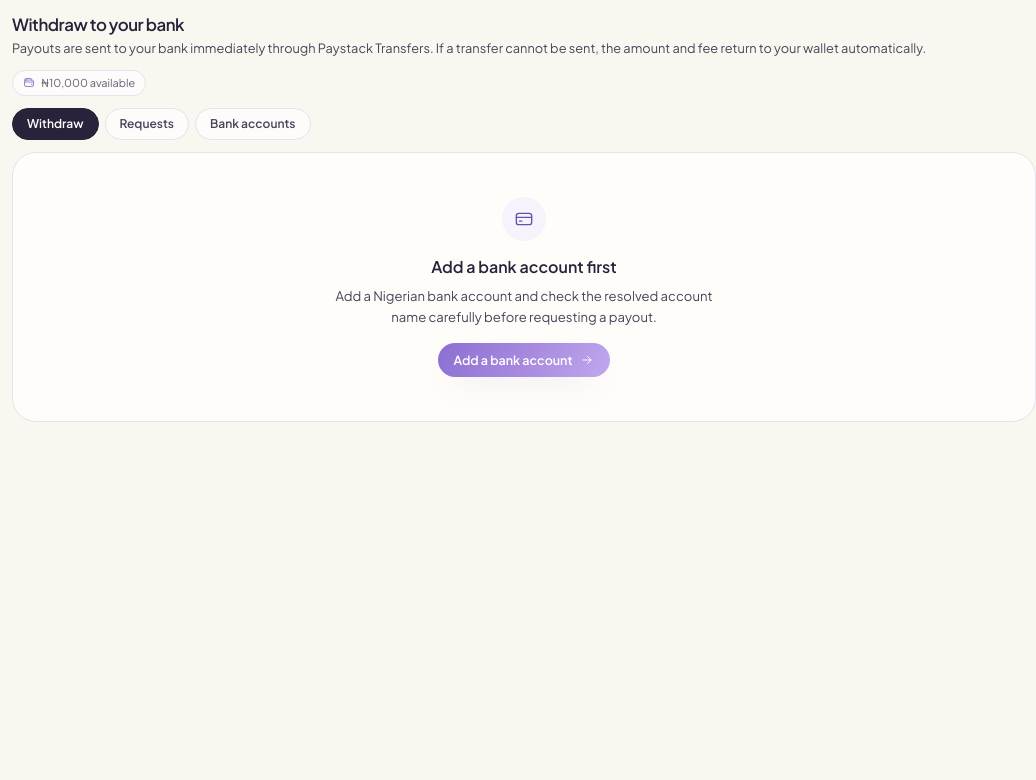
with no bank account yet › keeps the panel reachable from the tab strip too
The image size is (1036, 780).
expect the text "Add a bank account first" is shown: met, box [431,256,617,276]
Click the button "Bank accounts".
click(253, 124)  # box [195,108,310,140]
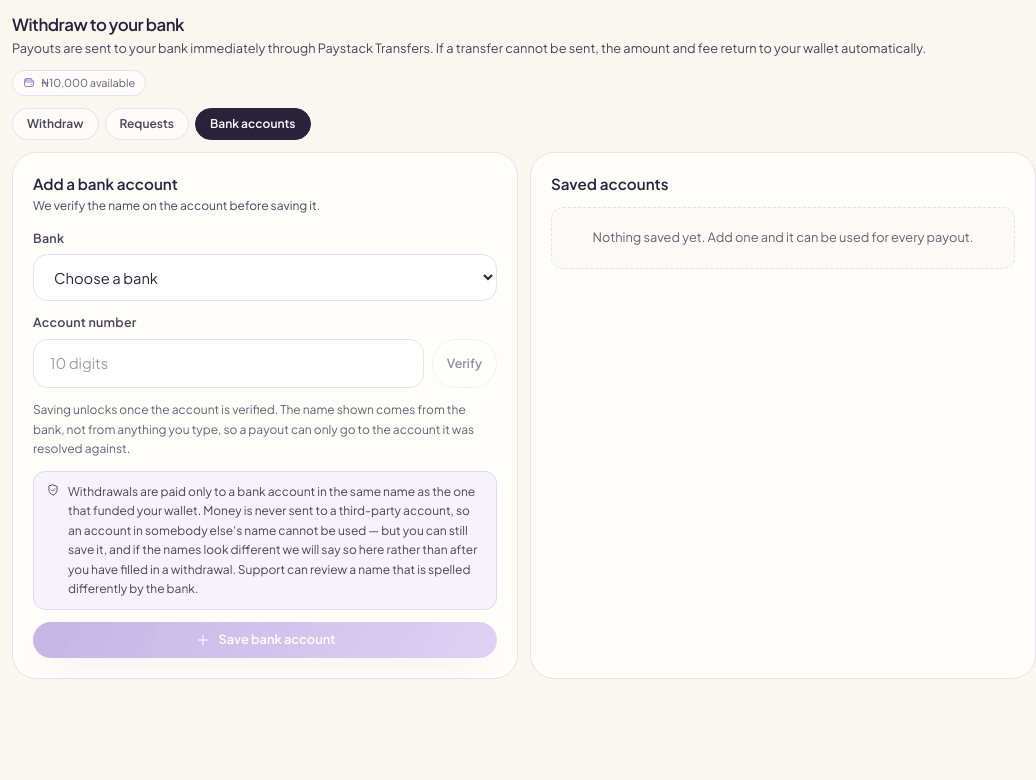
expect the element with id "bank-accounts" is shown: met
